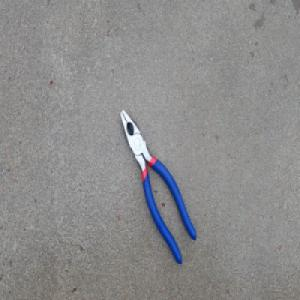Pliers: (119, 108, 197, 266)
